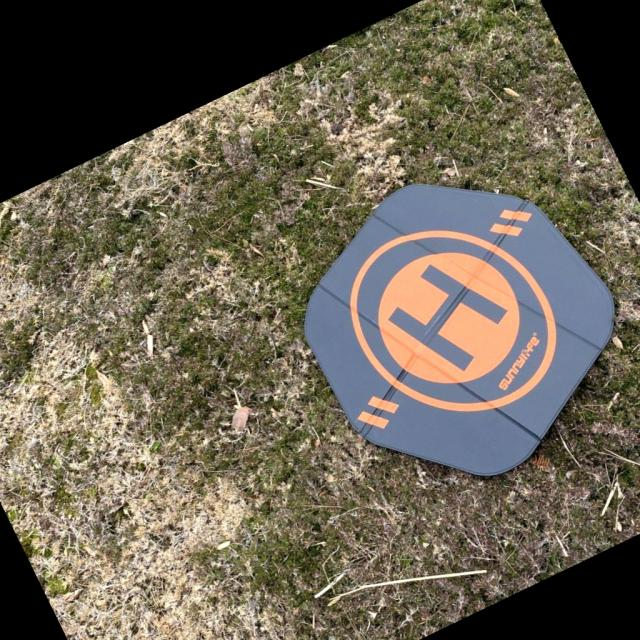helipad: (346, 226, 559, 413)
